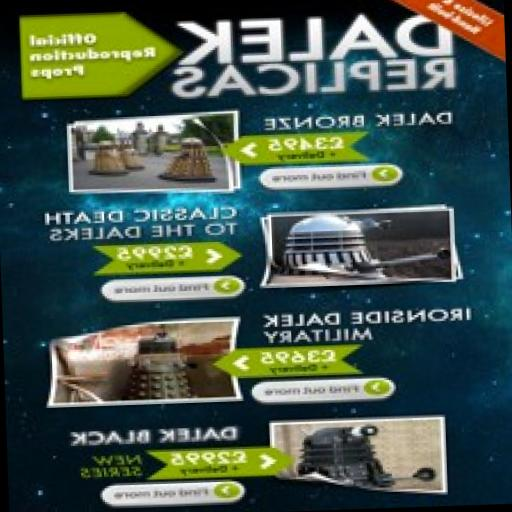dalek: (280, 210, 452, 284), (298, 420, 439, 487), (123, 324, 201, 402), (156, 136, 214, 182), (84, 136, 126, 180), (117, 138, 146, 174)
